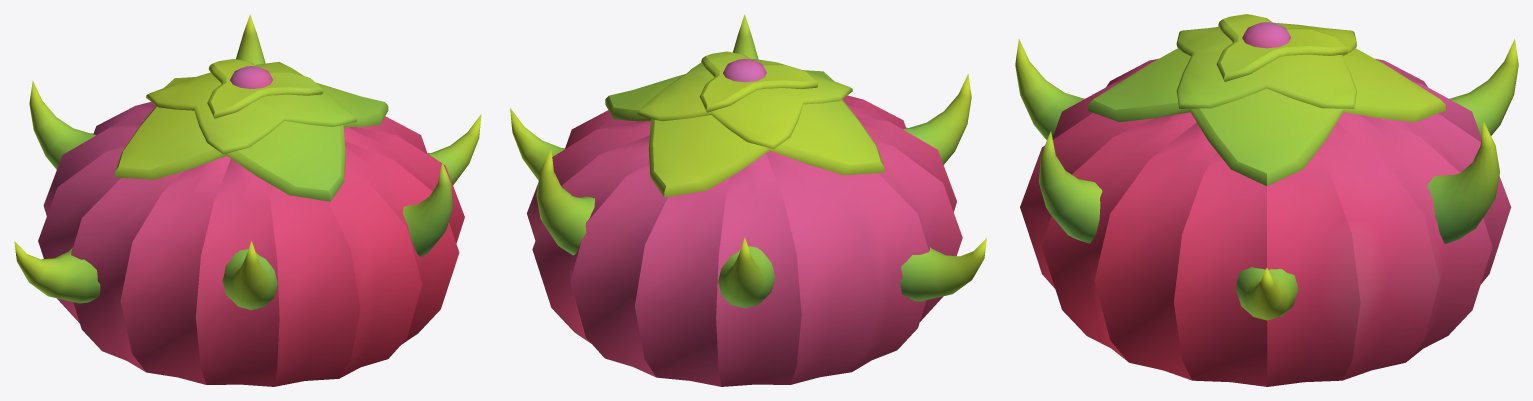
File: Cactus003.fbx
The picture shows the model from 3 angles, left to right: view 1: azimuth 30°, elevation 25°; view 2: azimuth 150°, elevation 25°; view 3: azimuth 270°, elevation 25°; orthographic projection. The views are drawn at different scales.
Visible parts, largest first — view 1: Cactus003; view 2: Cactus003; view 3: Cactus003.
Part boxes in pixels (<box>): Cactus003: <box>14,14,481,386</box>; Cactus003: <box>510,14,986,386</box>; Cactus003: <box>1015,14,1518,386</box>.
Bounding box in the file's own units: 26.89 × 13.53 × 22.16.
1 material, 1 textured.
